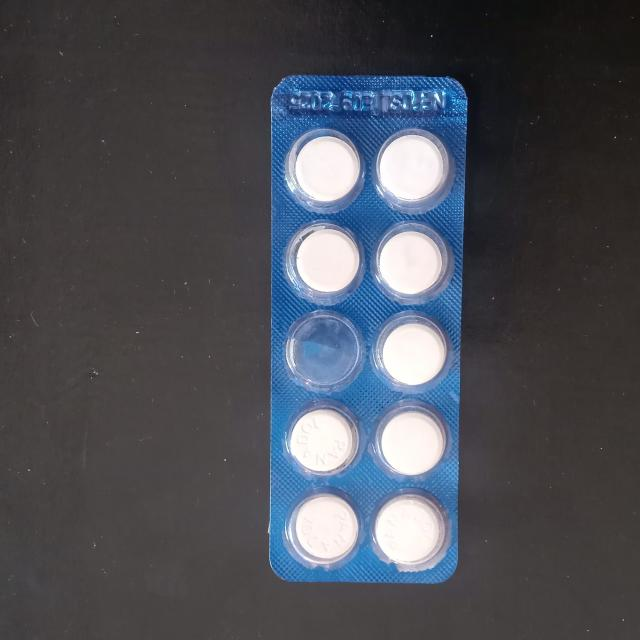defect: (282, 308, 366, 394)
